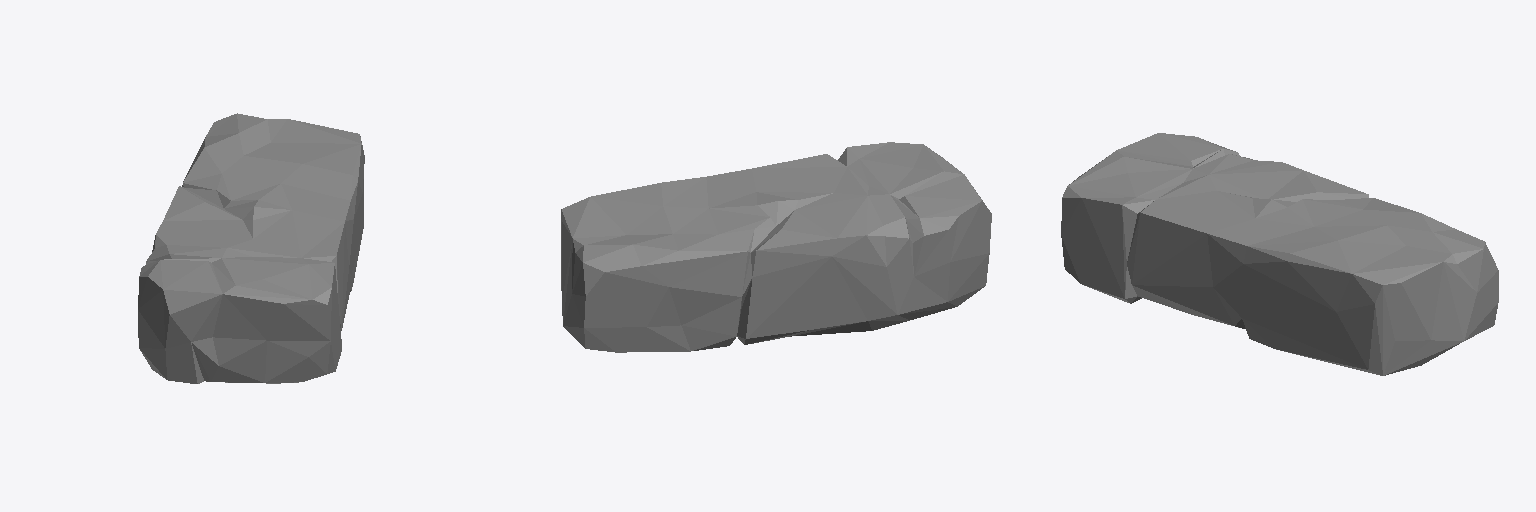
3 renders of one model, left to right at view 1: azimuth 30°, elevation 25°; view 2: azimuth 150°, elevation 25°; view 3: azimuth 270°, elevation 25°, orthographic.
Visible parts, largest first — view 1: rock5_1; view 2: rock5_1; view 3: rock5_1.
Part boxes in pixels (left/top/right/bottom): rock5_1: left=138, top=113, right=364, bottom=383; rock5_1: left=561, top=142, right=991, bottom=352; rock5_1: left=1061, top=133, right=1498, bottom=375.
Size of the model in its own units: 2.37 by 0.7774 by 2.87.